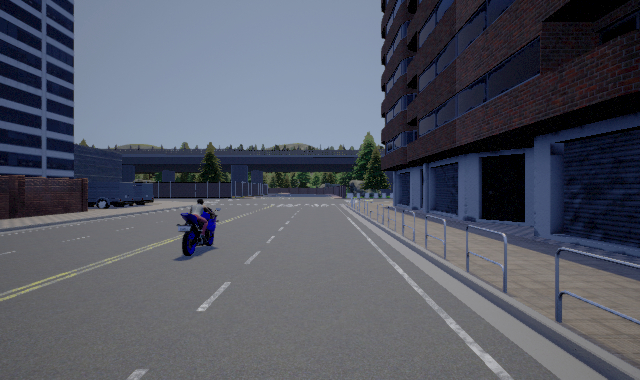motobike: (176, 200, 222, 256)
